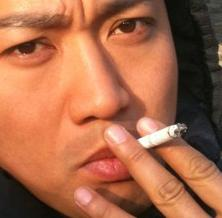smoke: (128, 120, 189, 150)
